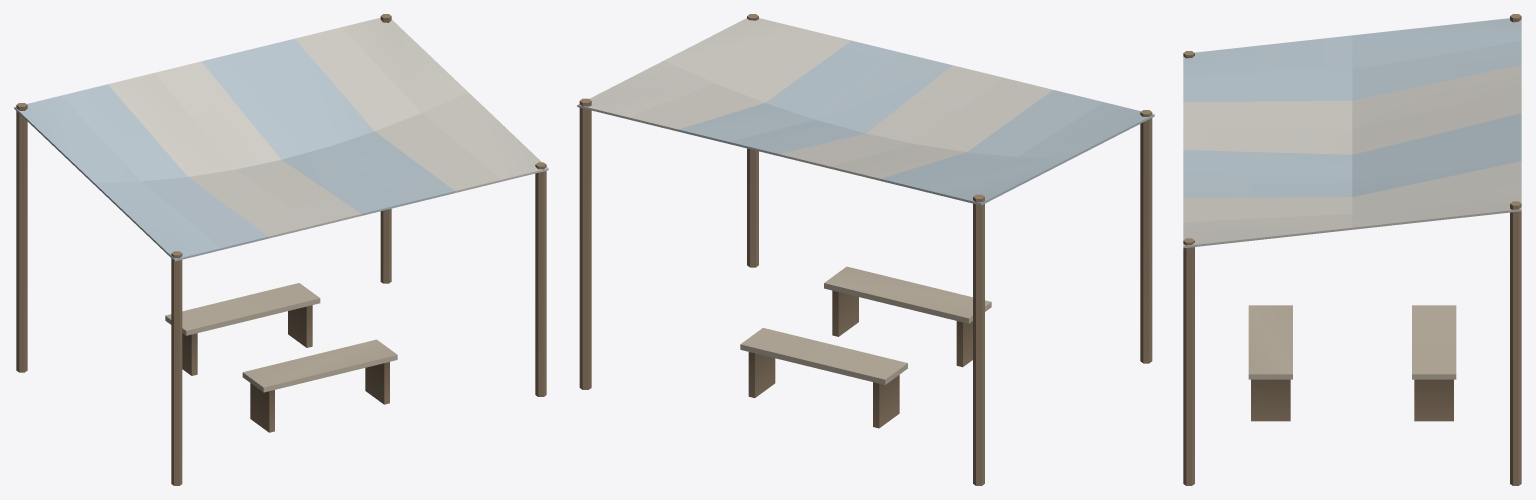
File: roof_shade.glb
3 views of the same model, side by side, from view 1: azimuth 30°, elevation 25°; view 2: azimuth 150°, elevation 25°; view 3: azimuth 270°, elevation 25° (orthographic). The views are drawn at different scales.
Visible parts, largest first — view 1: roof.shade; view 2: roof.shade; view 3: roof.shade.
Boxes of the visible parts, bbox=[...] form: roof.shade: bbox=[14, 14, 548, 485]; roof.shade: bbox=[577, 14, 1154, 485]; roof.shade: bbox=[1183, 14, 1521, 485].
Bounding box in the file's own units: 3.9 × 2.65 × 2.9.
